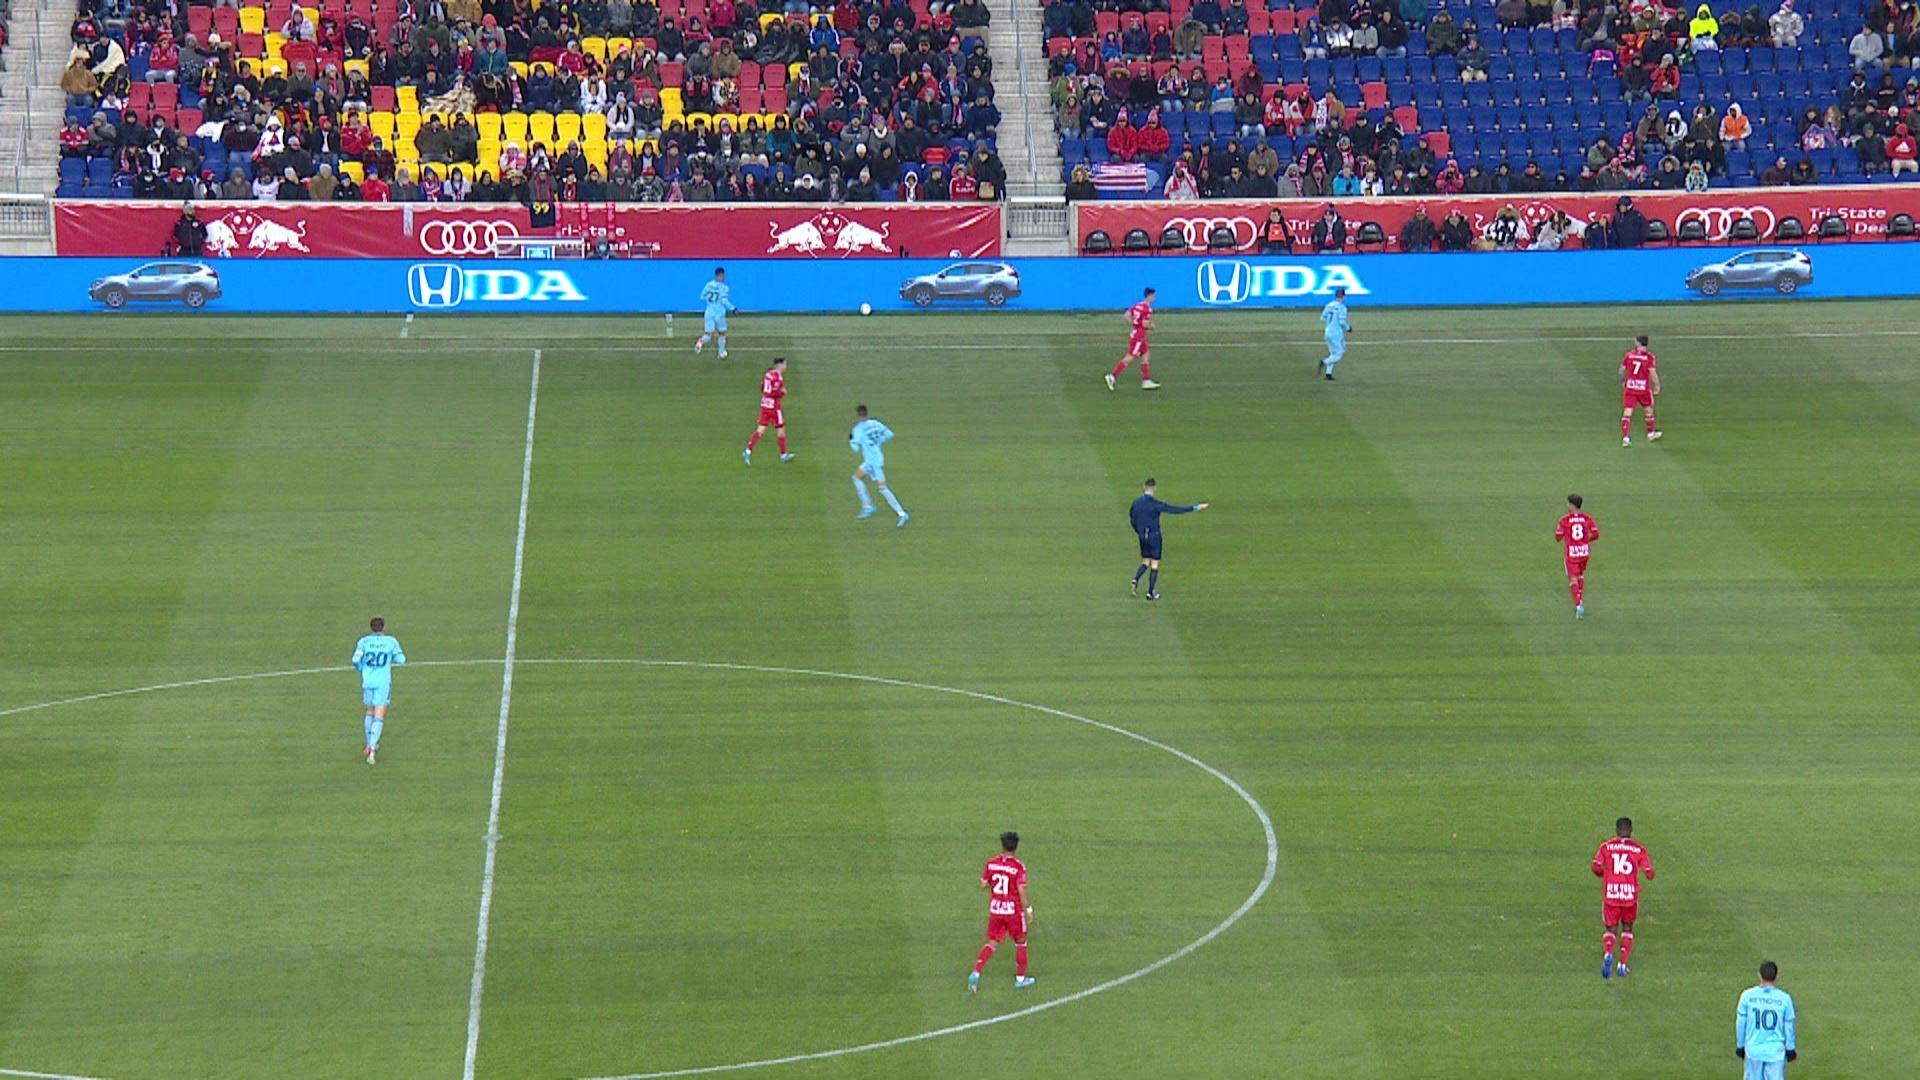football: (860, 302, 872, 315)
